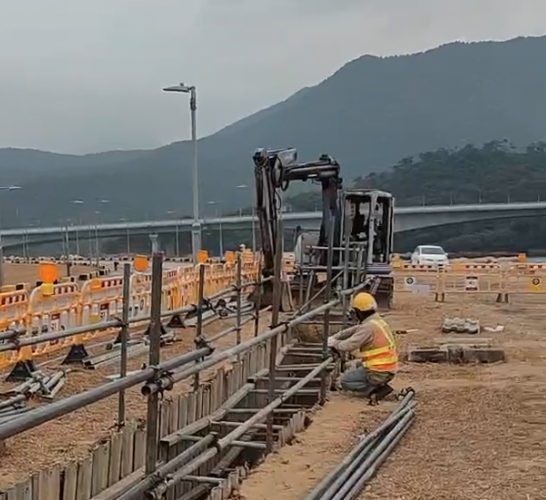Hard Hat: (349, 293, 377, 320)
Person: (333, 295, 401, 400)
Vest: (357, 312, 400, 376)
